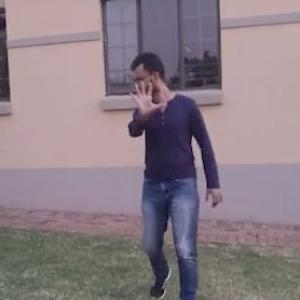follow_hand: (125, 78, 167, 121)
